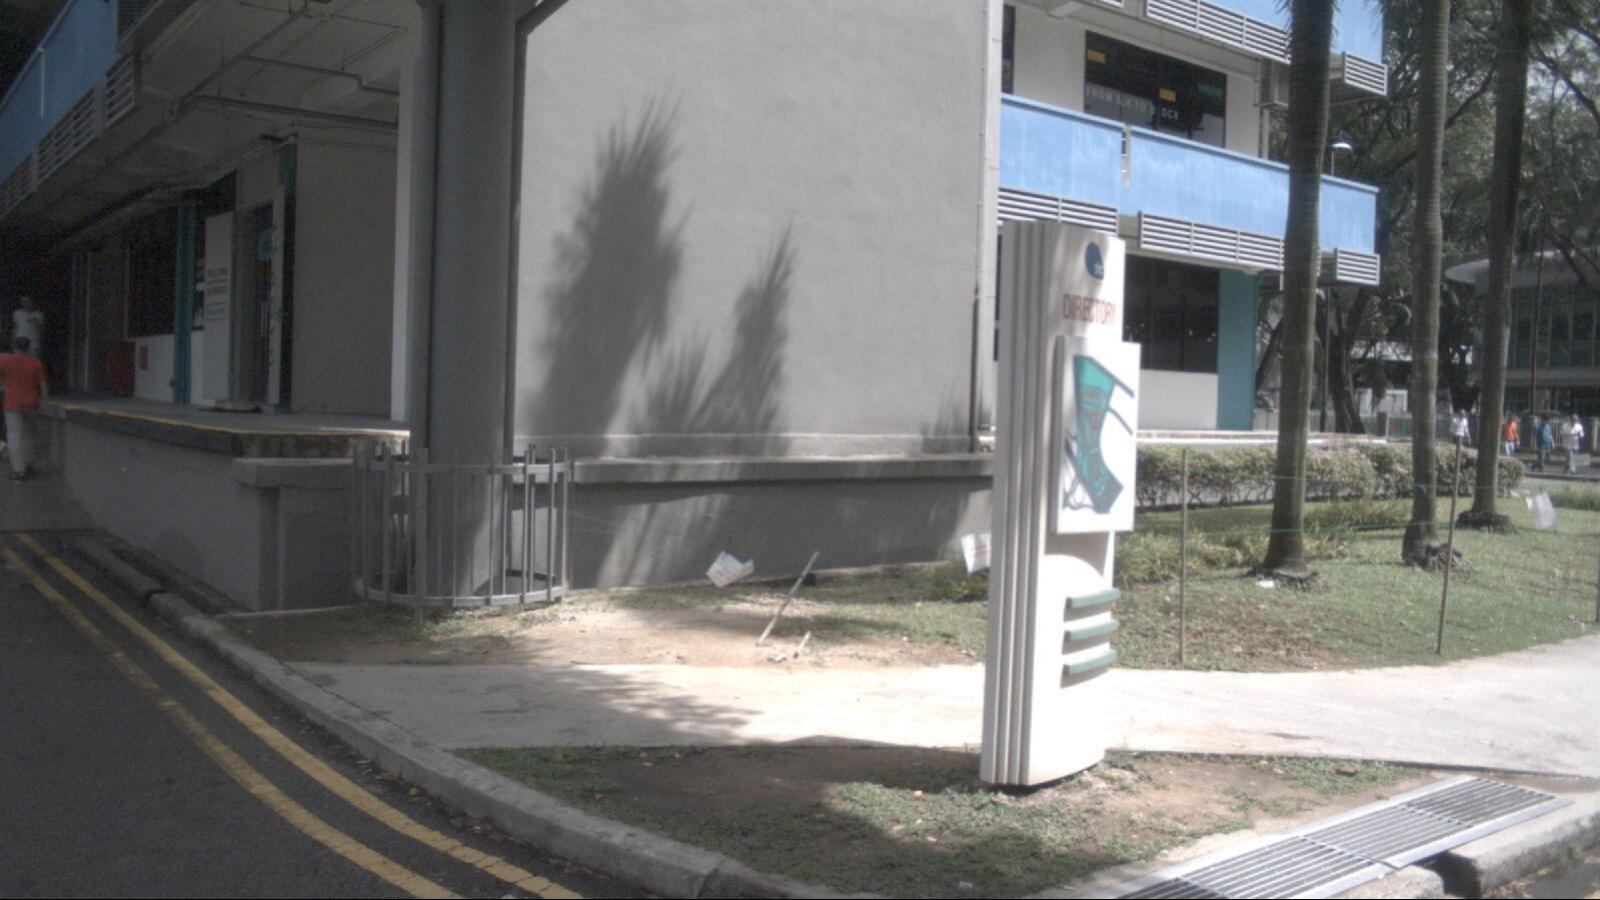human.pedestrian.adult-pedestrian.moving: (0, 337, 49, 483), (11, 295, 47, 397), (1556, 412, 1585, 476), (1529, 414, 1555, 474), (1447, 408, 1471, 468), (1499, 411, 1520, 470)
